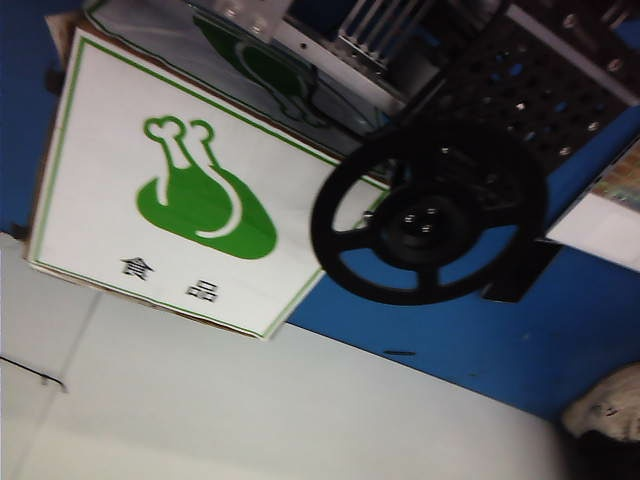Cube_food: (115, 106, 280, 306)
